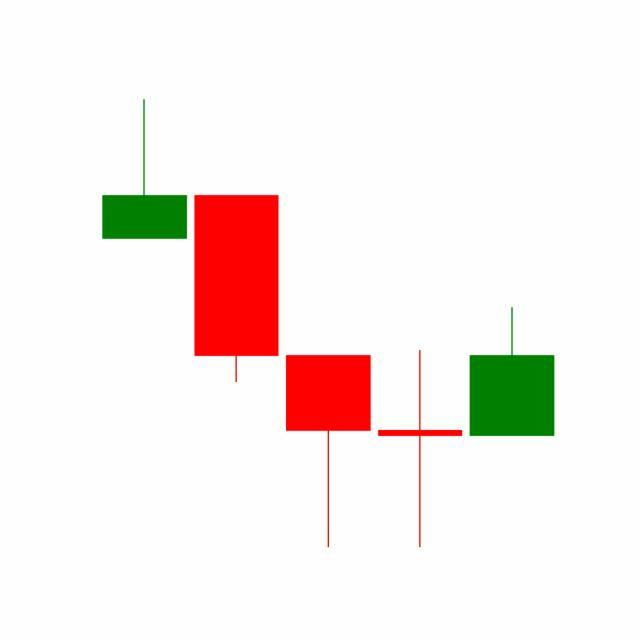Spinning Top: (374, 349, 468, 551)
